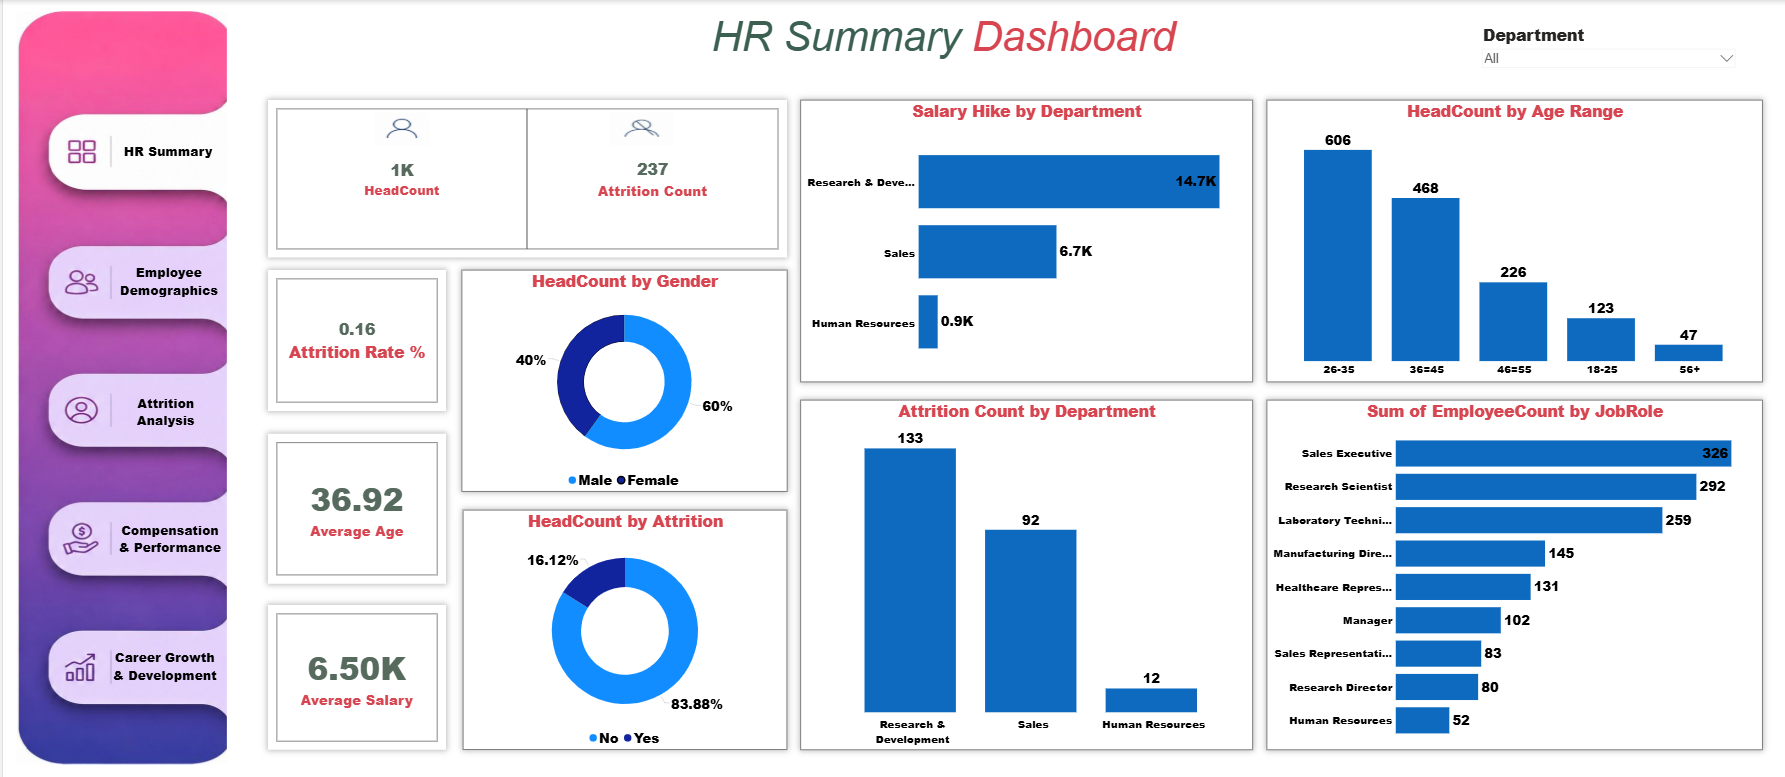

What the dashboard file says about the page in this screenshot:
{"tool":"powerbi","page":{"name":"Page 1","canvas":[4580,2000],"ordinal":0},"visuals":[{"type":"image","box":[36.7,29.4,540,1935.9],"z":0},{"type":"textbox","box":[1344.9,29.6,2140.7,151.3],"z":1000},{"type":"cardVisual","fields":{"Data":["WA_Fn-UseC_-HR-Employee-Attrition.HeadCount","WA_Fn-UseC_-HR-Employee-Attrition.Attrition Count"]},"box":[681.7,256.9,1333.7,405],"z":2000},{"type":"pageNavigator","box":[329.5,349.9,200.4,51],"z":3000},{"type":"image","box":[1559.1,288.7,166.4,88.3],"z":4000},{"type":"image","box":[954.5,288.7,142.7,88.3],"z":5000},{"type":"donutChart","fields":{"Y":["WA_Fn-UseC_-HR-Employee-Attrition.HeadCount"],"Category":["WA_Fn-UseC_-HR-Employee-Attrition.Gender"]},"box":[1178.9,694.8,836.4,569.7],"z":6000},{"type":"donutChart","fields":{"Y":["WA_Fn-UseC_-HR-Employee-Attrition.HeadCount"],"Category":["WA_Fn-UseC_-HR-Employee-Attrition.Attrition"]},"box":[1182.2,1310.6,833.1,615.8],"z":7000},{"type":"clusteredBarChart","title":"Salary Hike by Department","fields":{"Category":["WA_Fn-UseC_-HR-Employee-Attrition.Department"],"Y":["Sum(WA_Fn-UseC_-HR-Employee-Attrition.PercentSalaryHike)"]},"box":[2048.3,256.9,1162.5,724.5],"z":8000},{"type":"clusteredColumnChart","fields":{"Y":["WA_Fn-UseC_-HR-Employee-Attrition.HeadCount"],"Category":["WA_Fn-UseC_-HR-Employee-Attrition.Age Range"]},"box":[3247,256.9,1274.4,724.5],"z":9000},{"type":"cardVisual","fields":{"Data":["WA_Fn-UseC_-HR-Employee-Attrition.Attrition Rate %"]},"box":[681.7,694.8,457.7,362.2],"z":10000},{"type":"cardVisual","fields":{"Data":["WA_Fn-UseC_-HR-Employee-Attrition.Average Age"]},"box":[681.7,1116.4,457.7,385.3],"z":11000},{"type":"cardVisual","fields":{"Data":["WA_Fn-UseC_-HR-Employee-Attrition.Average Salary"]},"box":[681.7,1554.3,457.7,372.1],"z":12000},{"type":"clusteredColumnChart","fields":{"Category":["WA_Fn-UseC_-HR-Employee-Attrition.Department"],"Y":["WA_Fn-UseC_-HR-Employee-Attrition.Attrition Count"]},"box":[2048.3,1027.4,1162.5,899],"z":13000},{"type":"barChart","fields":{"Category":["WA_Fn-UseC_-HR-Employee-Attrition.JobRole"],"Y":["Sum(WA_Fn-UseC_-HR-Employee-Attrition.EmployeeCount)"]},"box":[3247,1027.4,1274.4,899],"z":14000},{"type":"actionButton","box":[258.6,347.5,335.3,80.8],"z":15000},{"type":"actionButton","box":[258.6,662.6,339.4,121.2],"z":16000},{"type":"actionButton","box":[282.8,977.1,272,161.1],"z":17000},{"type":"actionButton","box":[282.8,1310,293.5,146.7],"z":18000},{"type":"actionButton","box":[269.9,1638.5,292.4,147.8],"z":19000},{"type":"slicer","fields":{"Values":["WA_Fn-UseC_-HR-Employee-Attrition.Department"]},"box":[3790.3,59.3,671.8,121.8],"z":19001}]}

Visuals, with their boxes in screenshot pixels (x1, y1, x2, y2), scaled from the page's 4580x2000 canvas onto the 1785x777 screenshot:
image: <bbox>14, 11, 225, 764</bbox>
textbox: <bbox>524, 11, 1358, 70</bbox>
cardVisual - WA_Fn-UseC_-HR-Employee-Attrition.HeadCount x WA_Fn-UseC_-HR-Employee-Attrition.Attrition Count: <bbox>266, 100, 785, 257</bbox>
pageNavigator: <bbox>128, 136, 207, 156</bbox>
image: <bbox>608, 112, 672, 146</bbox>
image: <bbox>372, 112, 428, 146</bbox>
donutChart - WA_Fn-UseC_-HR-Employee-Attrition.HeadCount x WA_Fn-UseC_-HR-Employee-Attrition.Gender: <bbox>459, 270, 785, 491</bbox>
donutChart - WA_Fn-UseC_-HR-Employee-Attrition.HeadCount x WA_Fn-UseC_-HR-Employee-Attrition.Attrition: <bbox>461, 509, 785, 748</bbox>
"Salary Hike by Department" clusteredBarChart: <bbox>798, 100, 1251, 381</bbox>
clusteredColumnChart - WA_Fn-UseC_-HR-Employee-Attrition.HeadCount x WA_Fn-UseC_-HR-Employee-Attrition.Age Range: <bbox>1265, 100, 1762, 381</bbox>
cardVisual - WA_Fn-UseC_-HR-Employee-Attrition.Attrition Rate %: <bbox>266, 270, 444, 411</bbox>
cardVisual - WA_Fn-UseC_-HR-Employee-Attrition.Average Age: <bbox>266, 434, 444, 583</bbox>
cardVisual - WA_Fn-UseC_-HR-Employee-Attrition.Average Salary: <bbox>266, 604, 444, 748</bbox>
clusteredColumnChart - WA_Fn-UseC_-HR-Employee-Attrition.Department x WA_Fn-UseC_-HR-Employee-Attrition.Attrition Count: <bbox>798, 399, 1251, 748</bbox>
barChart - WA_Fn-UseC_-HR-Employee-Attrition.JobRole x Sum(WA_Fn-UseC_-HR-Employee-Attrition.EmployeeCount): <bbox>1265, 399, 1762, 748</bbox>
actionButton: <bbox>101, 135, 231, 166</bbox>
actionButton: <bbox>101, 257, 233, 305</bbox>
actionButton: <bbox>110, 380, 216, 442</bbox>
actionButton: <bbox>110, 509, 225, 566</bbox>
actionButton: <bbox>105, 637, 219, 694</bbox>
slicer - WA_Fn-UseC_-HR-Employee-Attrition.Department: <bbox>1477, 23, 1739, 70</bbox>
